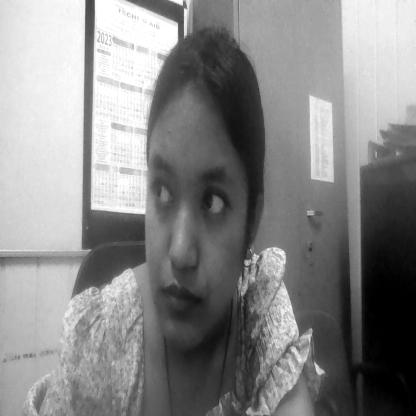Distracted: (144, 87, 246, 348)
